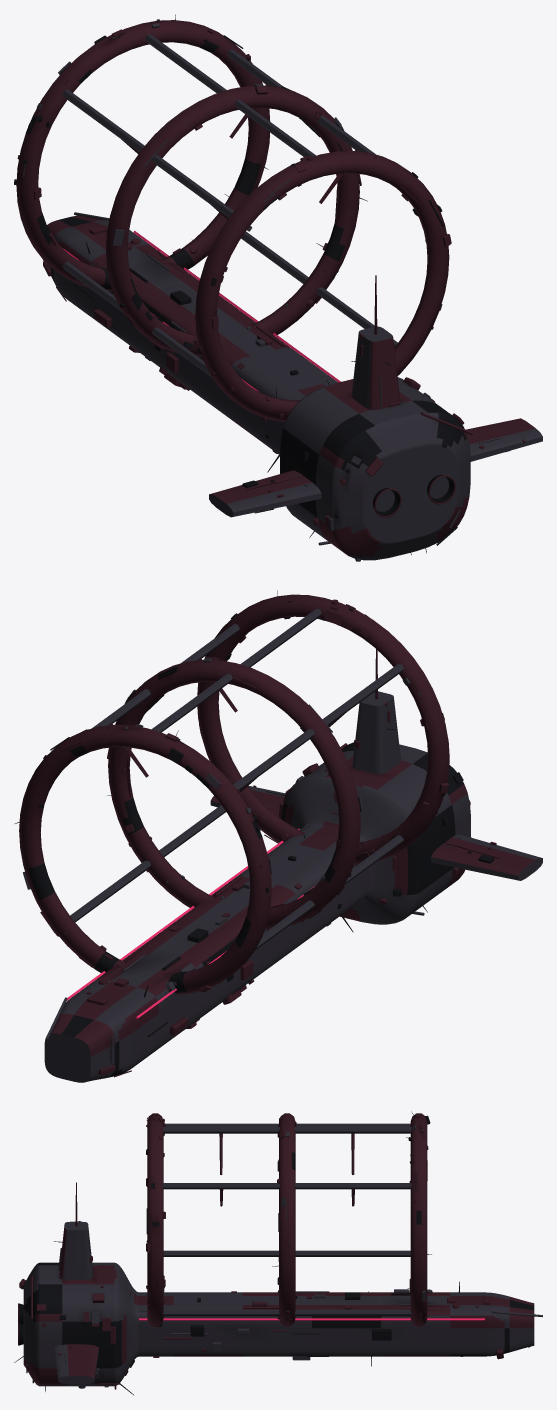
Rendered from forge-transformed.glb.
The picture shows the model from 3 angles, top to bottom: view 1: azimuth 30°, elevation 25°; view 2: azimuth 150°, elevation 25°; view 3: azimuth 270°, elevation 25°; orthographic projection. The views are drawn at different scales.
Visible parts, largest first — view 1: forge; view 2: forge; view 3: forge.
Part boxes in pixels (<box>): forge: <box>14,14,542,561</box>; forge: <box>14,590,542,1082</box>; forge: <box>14,1111,542,1395</box>.
Size of the model in its own units: 1496 by 1628 by 3000.
